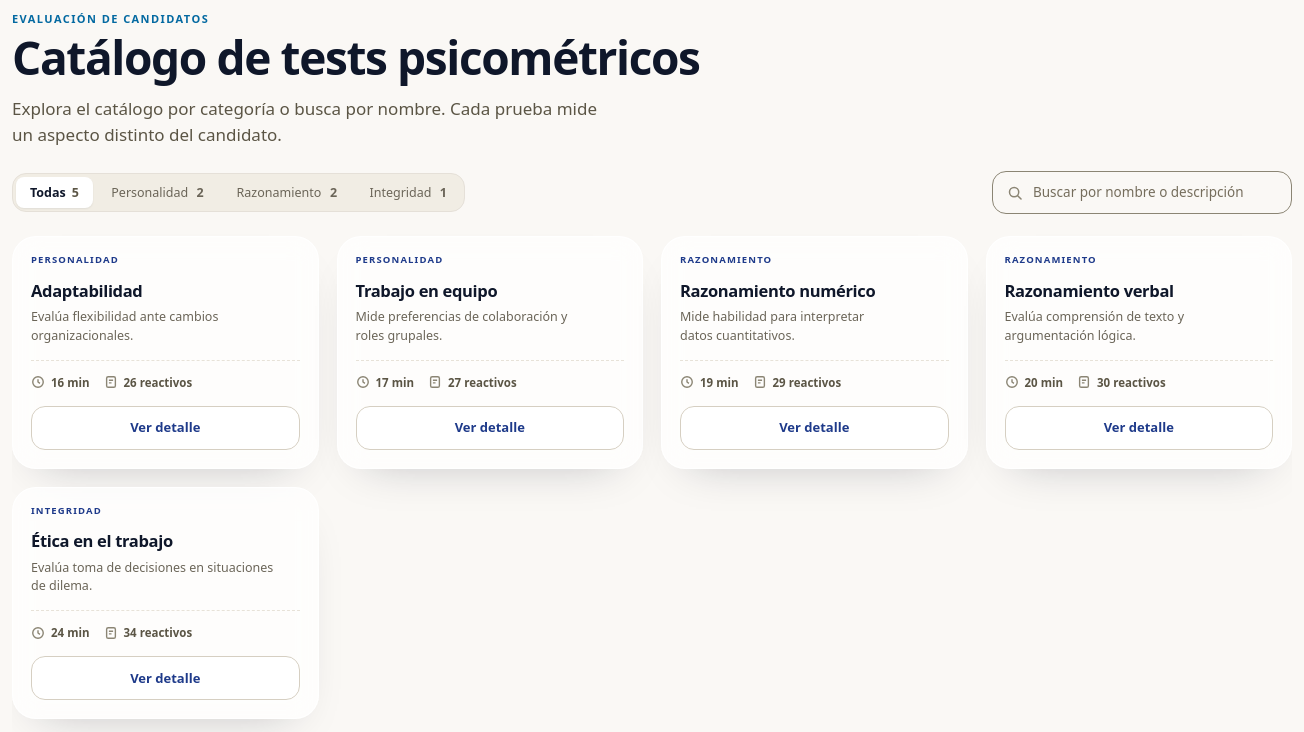
Test: PruebasPage · catálogo › sin resultados: EstadoVacio (no error) y «Limpiar búsqueda» conserva la categoría y vuelve al buscador
Click the button "Personalidad 2".
click(156, 193)  # box [95,177,218,208]
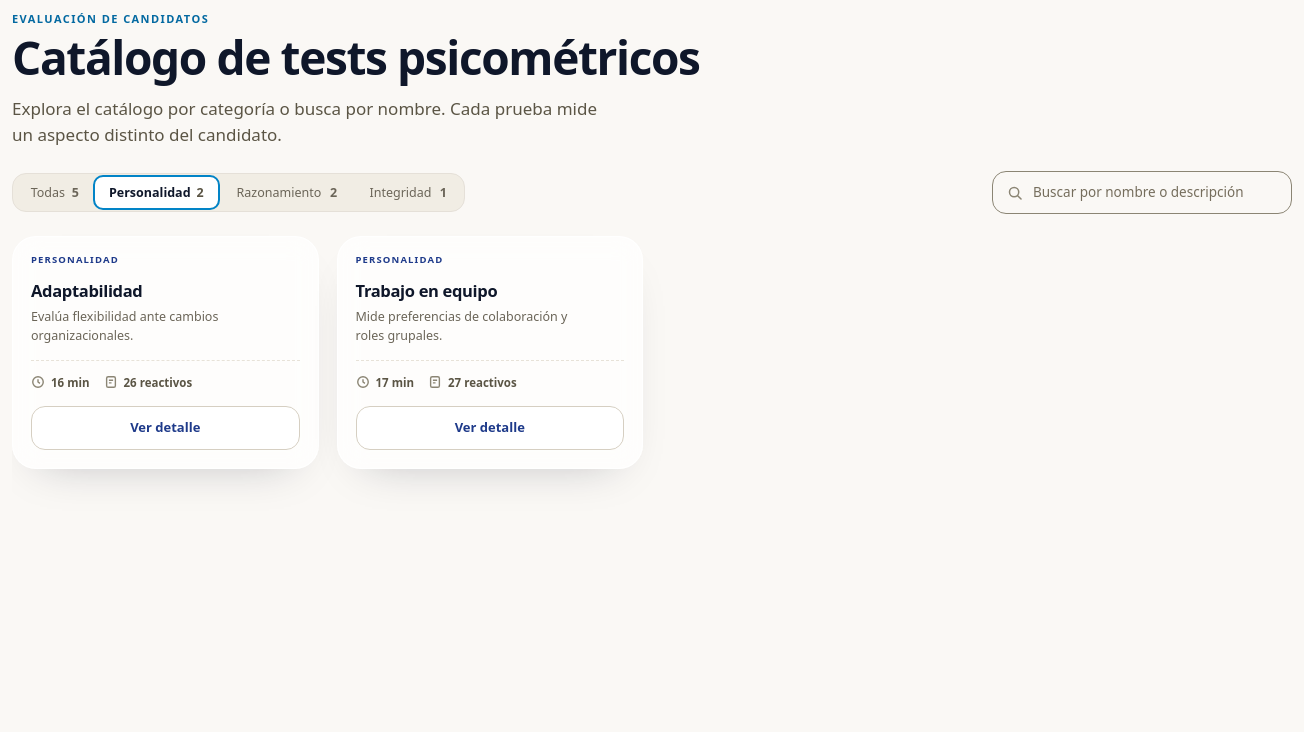
Type "zzz" into the search field named "Buscar prueba".
click(1157, 192); type("zzz")  # box [1023,172,1291,213]
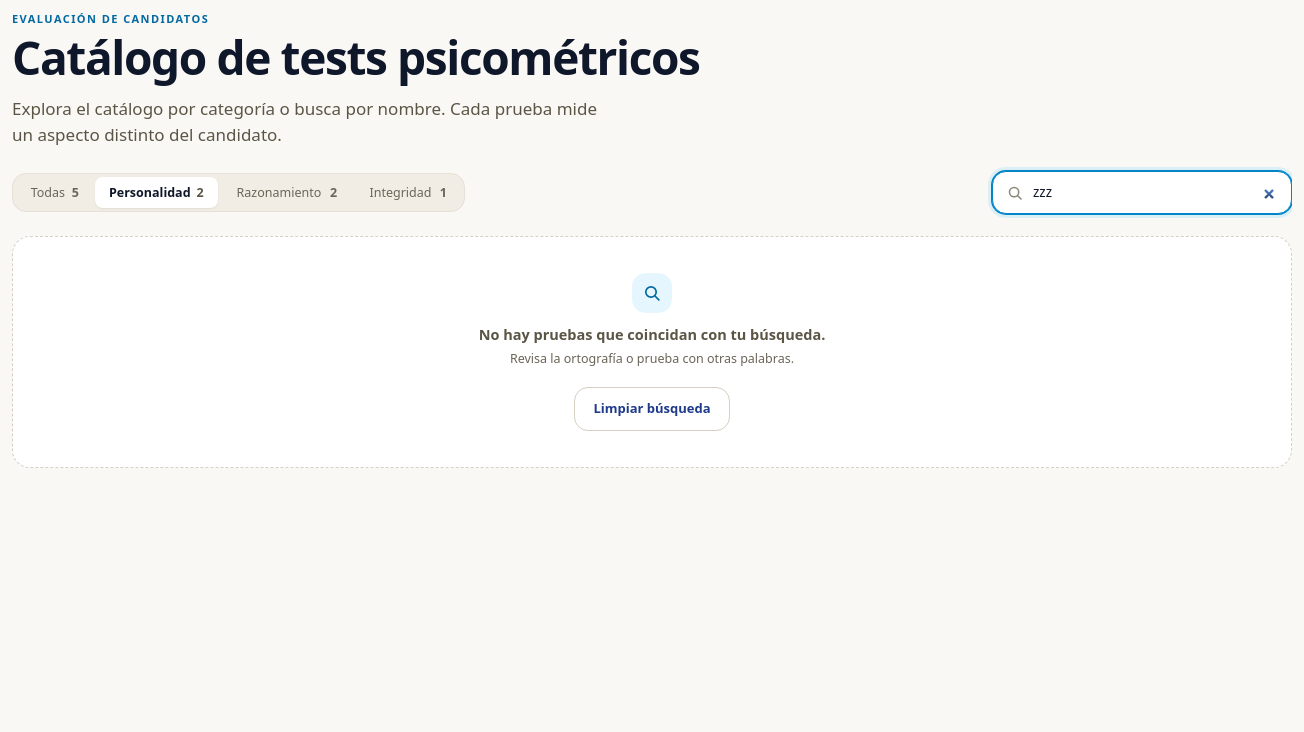
Expected: the heading "No hay pruebas que coincidan con tu búsqueda." is shown, [479,325,825,344]
Expected: the text "Revisa la ortografía o prueba con otras palabras." is shown, [510,350,794,369]
Expected: the list is gone
Click the button "Limpiar búsqueda".
click(652, 409)  # box [574,387,730,431]
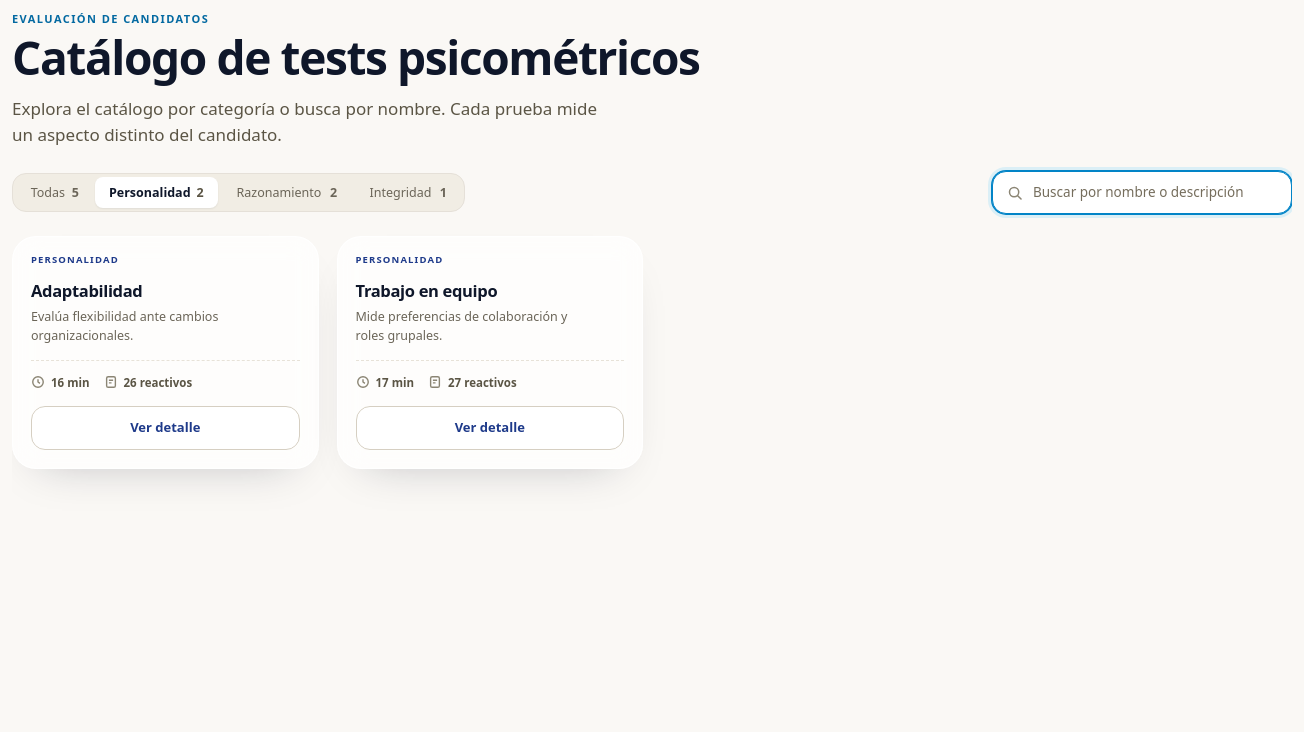
Expected: the search field named "Buscar prueba" is empty, [1023,172,1291,213]
